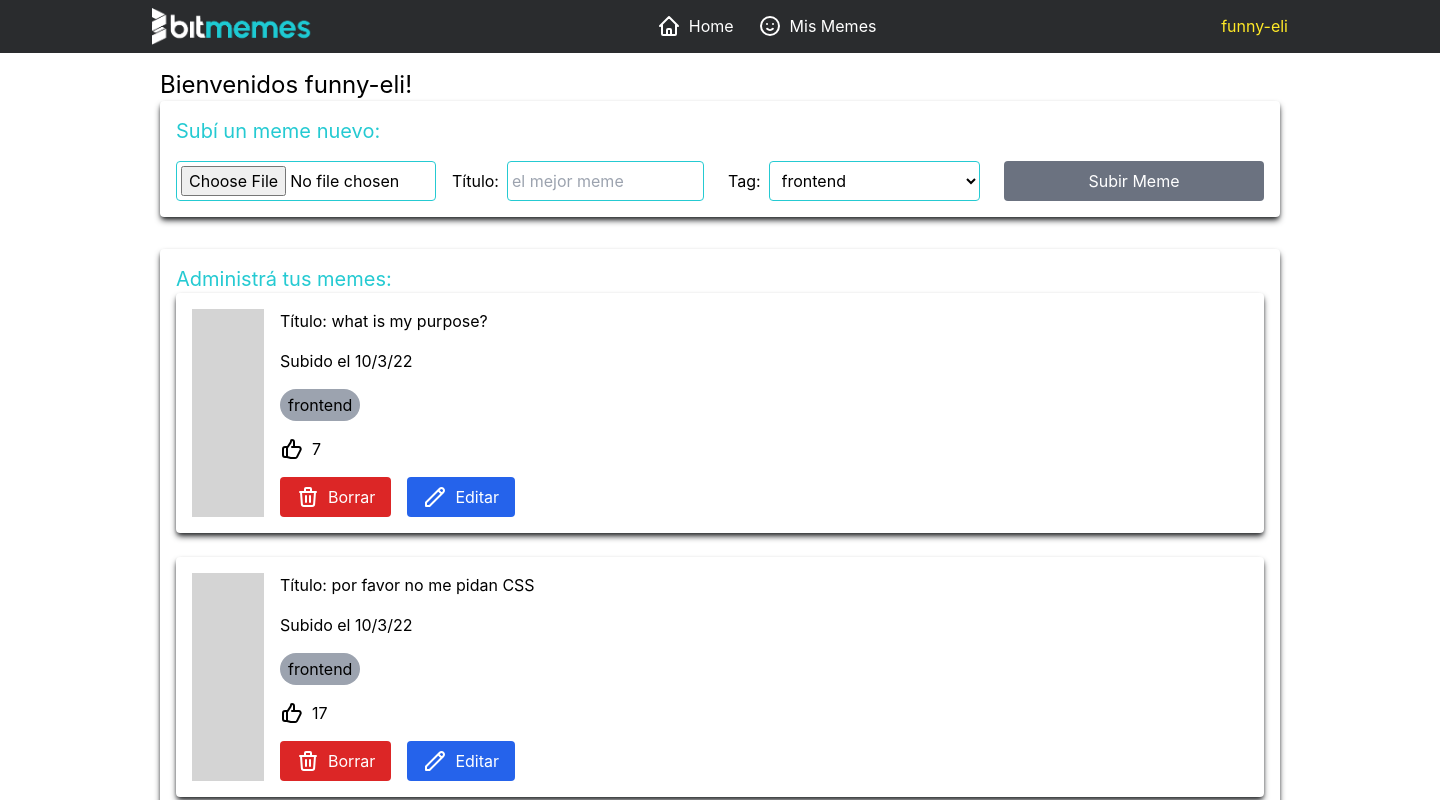
eliminar un meme
This screenshot has width=1440, height=800.
expect the heading "Bienvenidos funny-eli!" is shown: met, box [160, 70, 412, 99]
Click the button with test id "delete-meme" below "what is my purpose?" at coordinates (336, 497), box [280, 477, 391, 517]
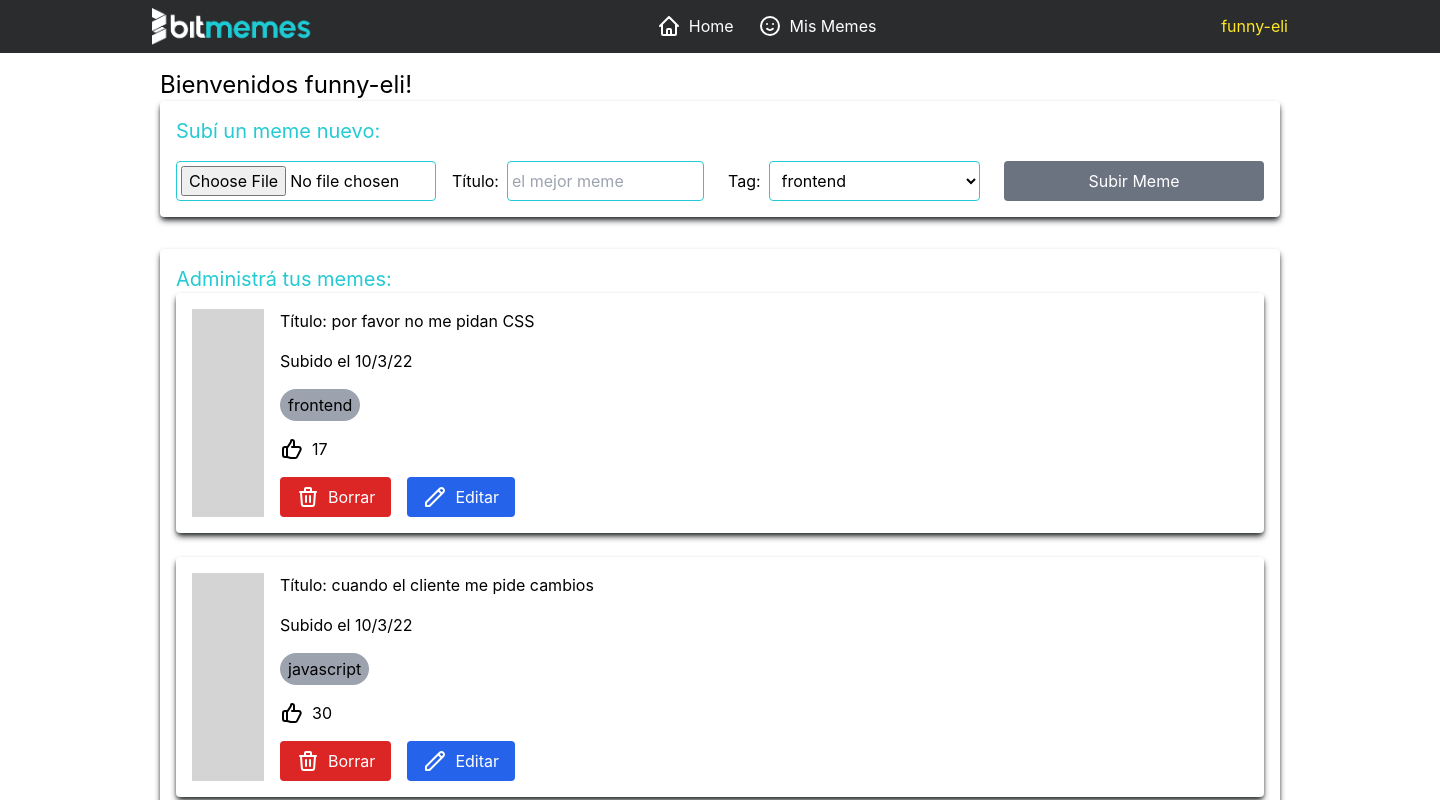
expect the number of elements with test id "meme-admin-card" is 2: met, box [176, 293, 1264, 533]; [176, 557, 1264, 797]
